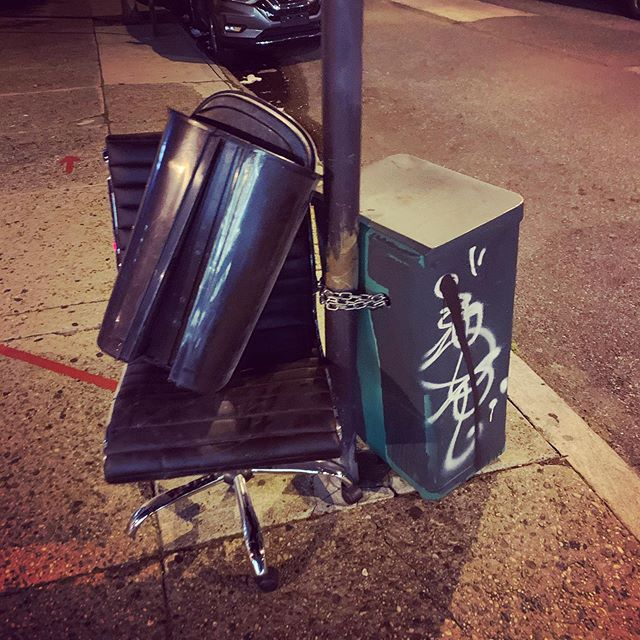chair: (88, 122, 351, 563)
graffiti: (426, 253, 504, 480)
street: (317, 1, 630, 489)
trash can: (83, 97, 343, 385), (336, 147, 523, 521)
